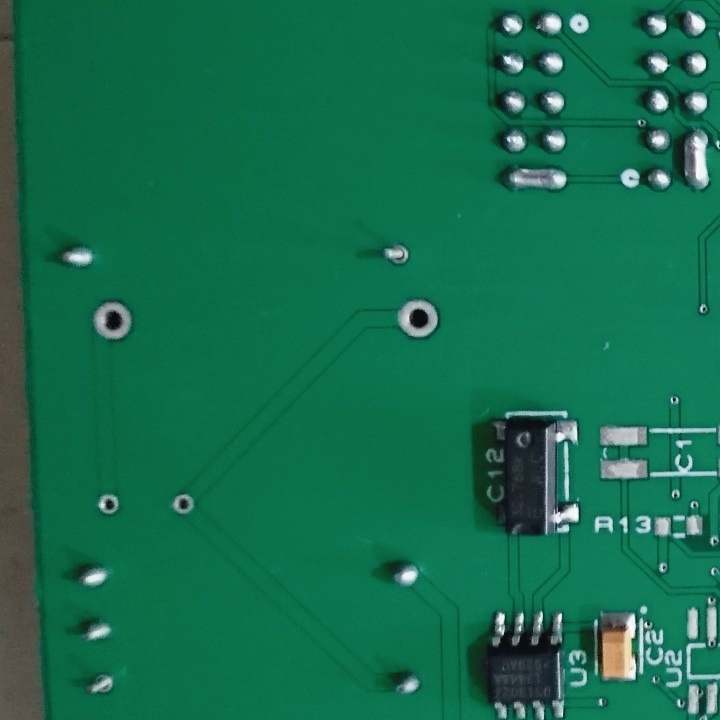F: (393, 293, 442, 343), (86, 299, 137, 346), (376, 238, 412, 269), (84, 671, 118, 699), (93, 490, 124, 518), (167, 488, 194, 518)
P: (676, 122, 716, 196), (499, 160, 573, 195)
